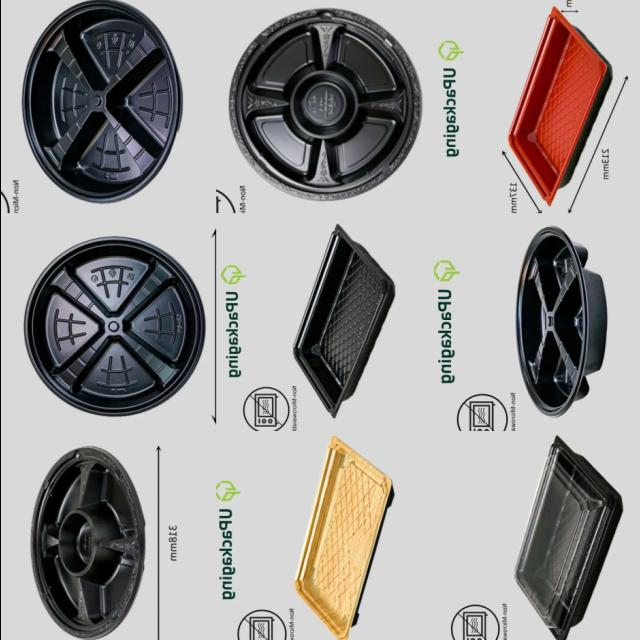plastik: (228, 9, 420, 201), (22, 0, 180, 202), (24, 238, 203, 415), (514, 437, 621, 640), (30, 447, 143, 639), (508, 8, 610, 205), (293, 437, 391, 640), (292, 225, 393, 417), (516, 228, 606, 417)
